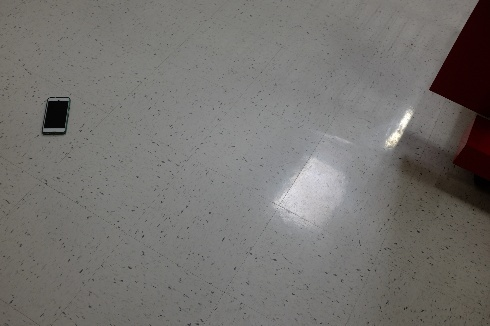phone: (30, 97, 79, 129)
